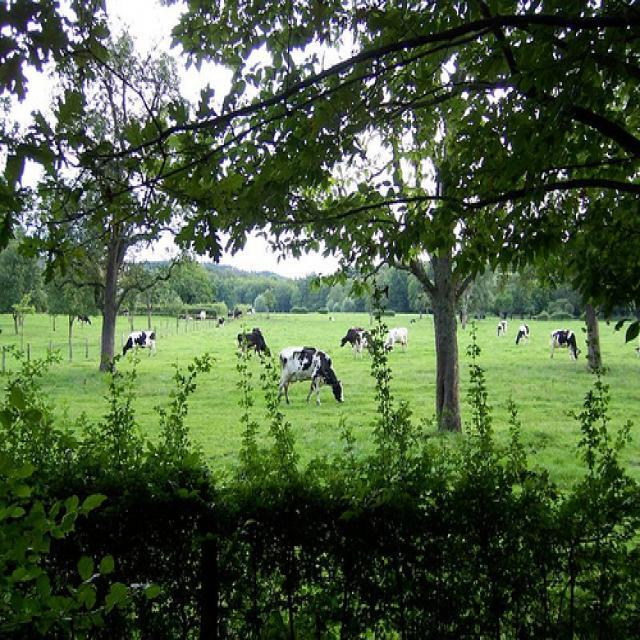cow: (75, 299, 418, 331), (274, 343, 343, 403), (548, 328, 580, 358), (120, 328, 154, 353), (382, 324, 410, 352), (245, 324, 268, 357), (353, 326, 374, 357), (339, 324, 362, 348), (512, 319, 527, 343), (197, 307, 205, 319), (215, 314, 224, 324), (236, 331, 241, 345), (500, 318, 505, 330), (225, 311, 232, 316)
